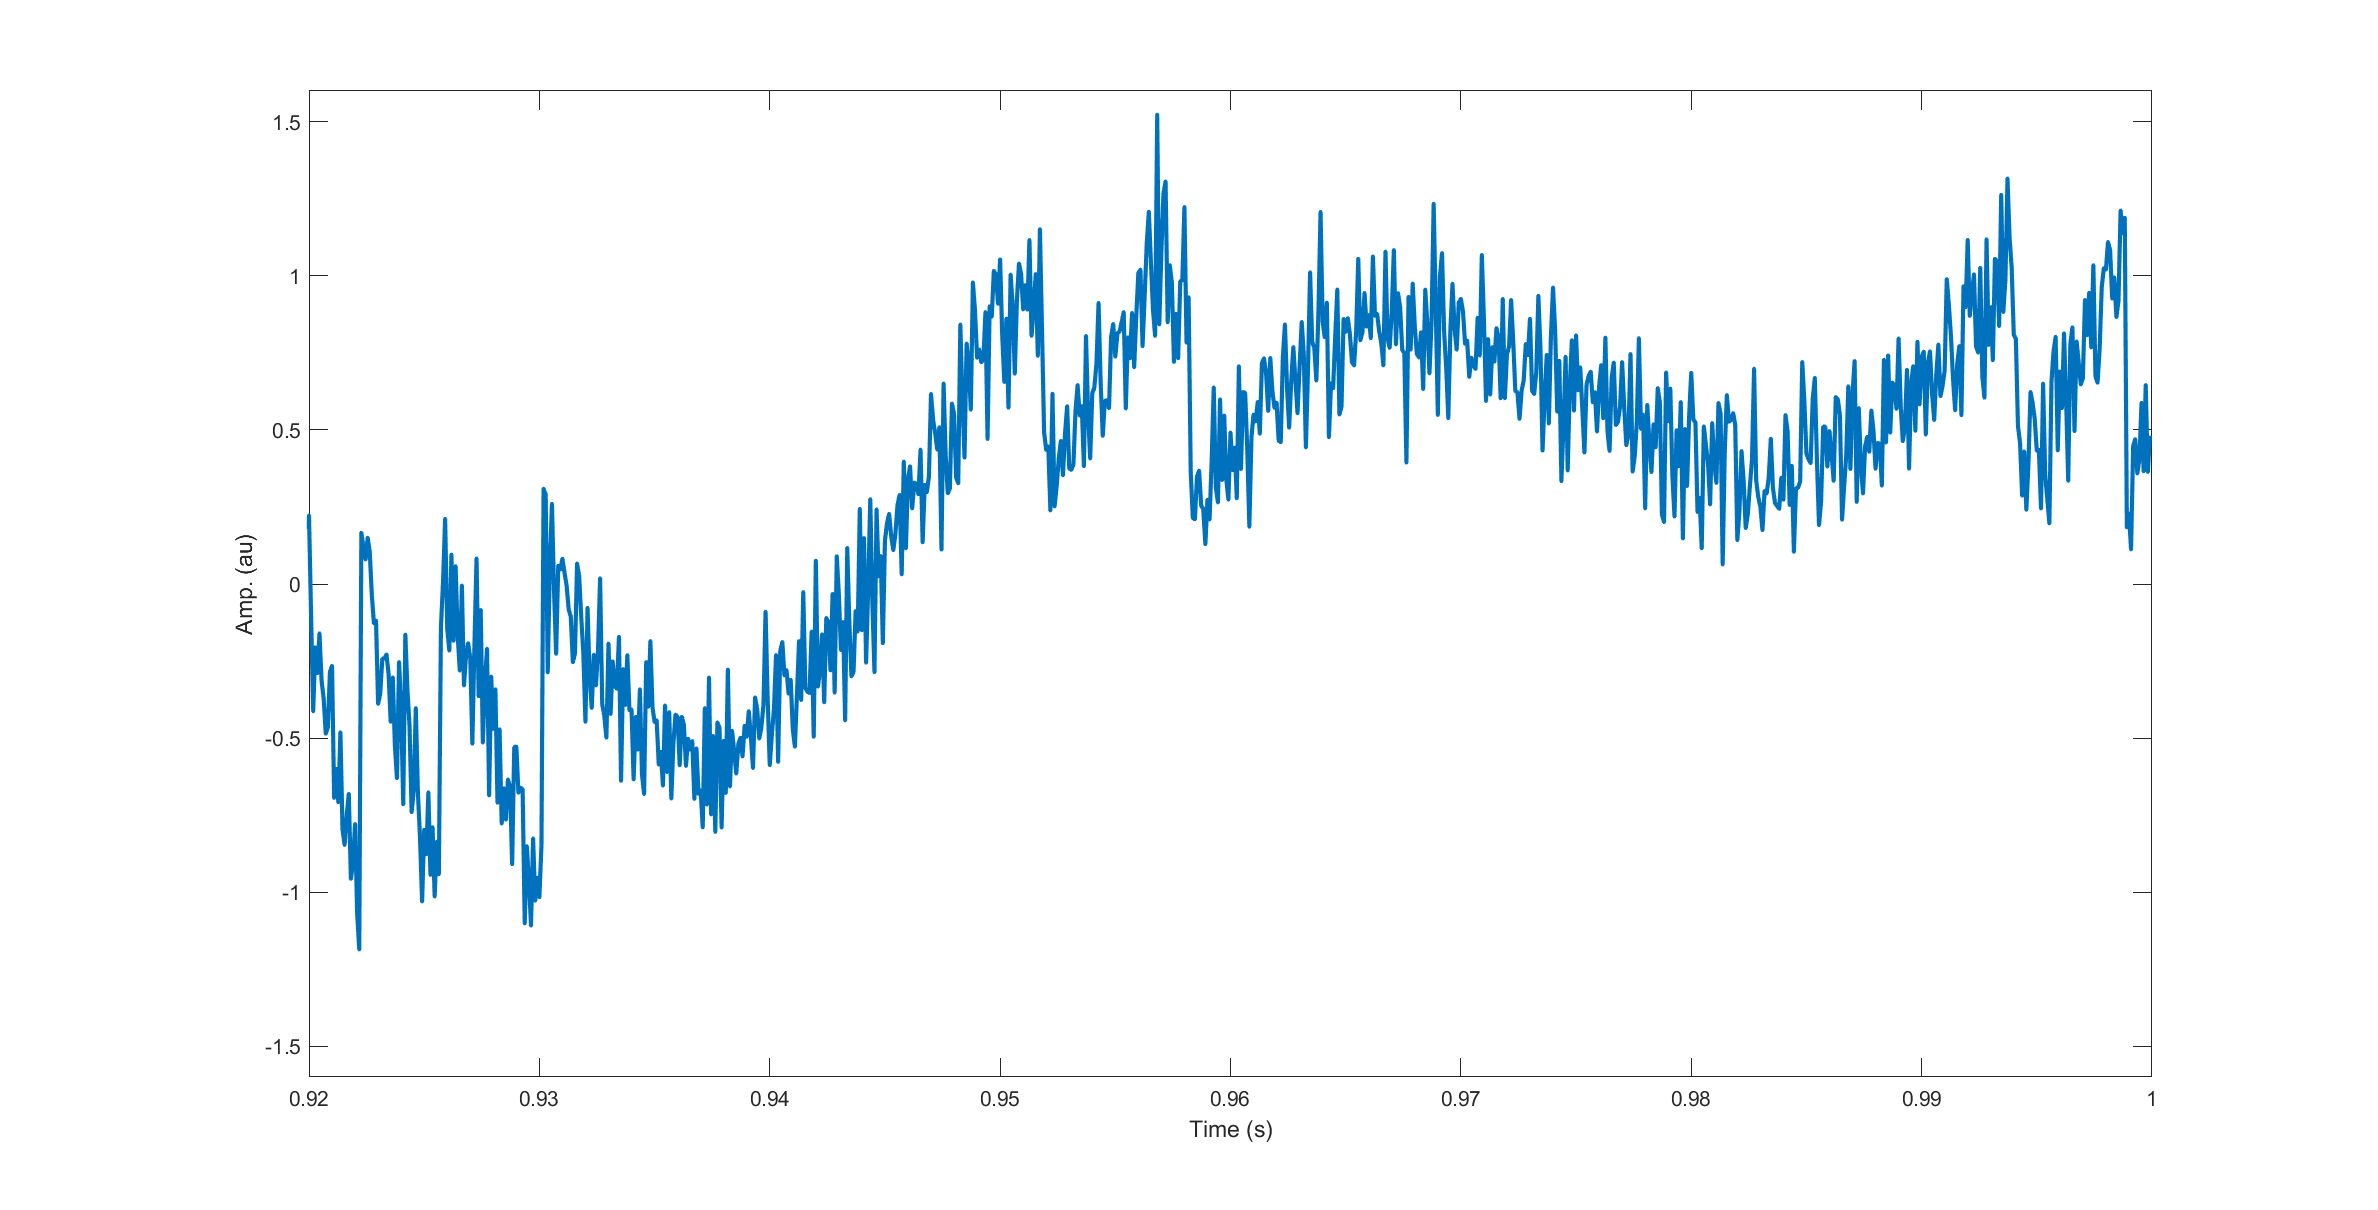negative_fringe: (528, 478, 647, 921), (431, 499, 525, 907), (347, 508, 424, 949)
positive_fringe: (1863, 154, 2028, 511), (1062, 97, 1194, 517), (920, 208, 1052, 511), (2032, 199, 2136, 553)
